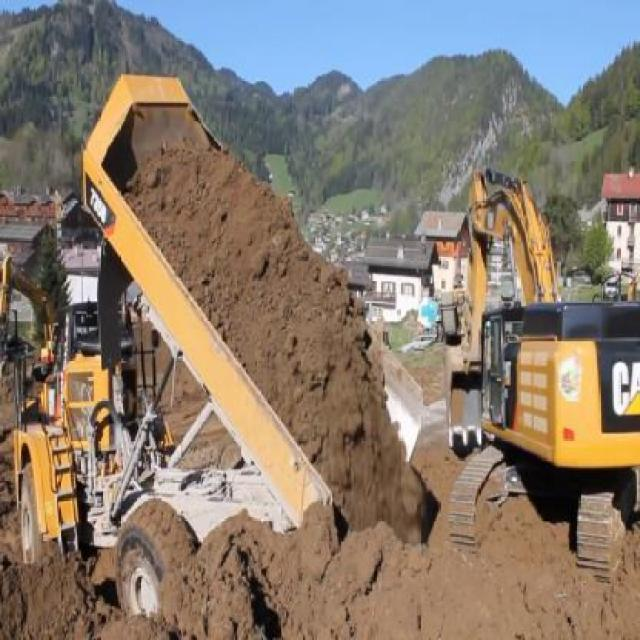Dump Truck: (11, 69, 424, 626)
Excavator: (443, 163, 639, 585), (1, 252, 56, 382)
